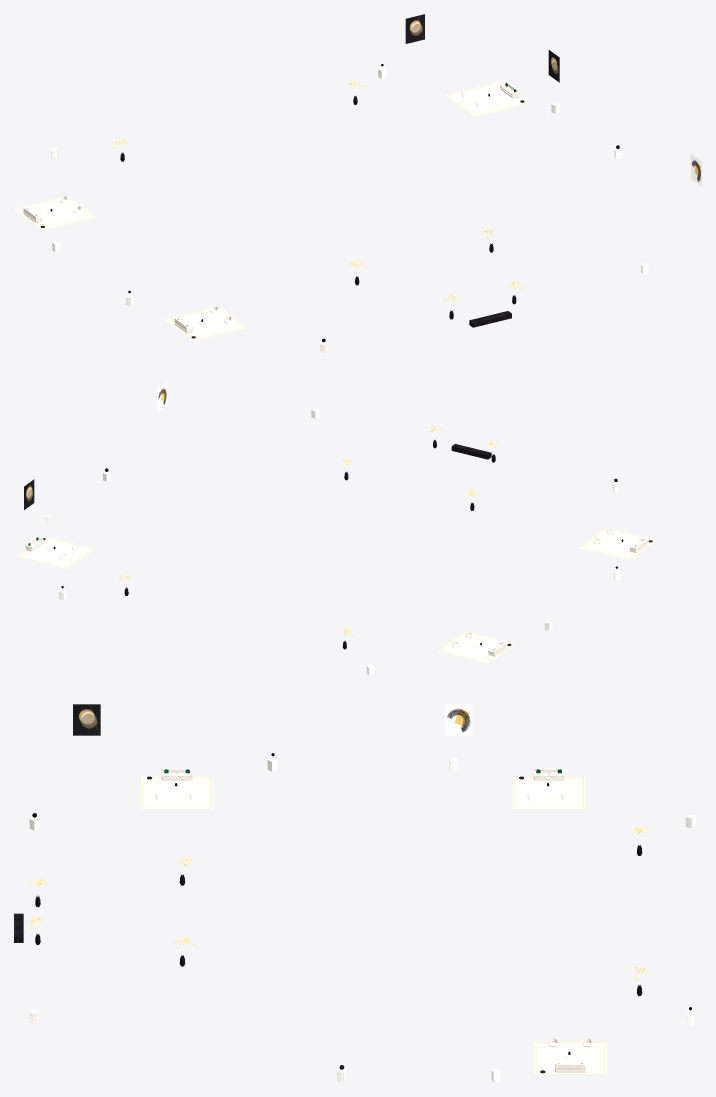
File: tb_decor2_p2.glb
3 views of the same model, one above another, from view 1: azimuth 30°, elevation 25°; view 2: azimuth 150°, elevation 25°; view 3: azimuth 270°, elevation 25° (orthographic). The views are drawn at different scales.
Visible parts, largest first — view 1: tb_decor_p2; view 2: tb_decor_p2; view 3: tb_decor_p2.
Boxes of the visible parts, x1,y1,x2,y2 form: tb_decor_p2: [14, 14, 701, 352]; tb_decor_p2: [17, 382, 655, 675]; tb_decor_p2: [14, 704, 695, 1082].
Bounding box in the file's own units: 71.75 × 6.82 × 64.72.
12 materials, 8 textured.
